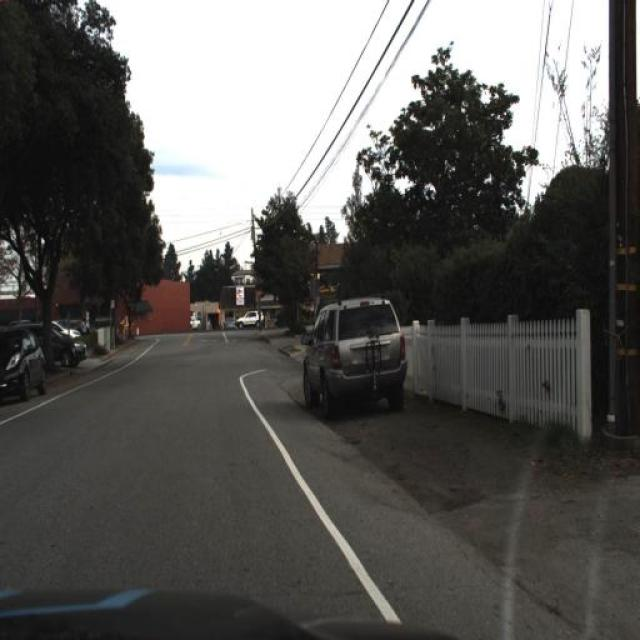car: (298, 291, 409, 421), (0, 323, 48, 416), (48, 322, 82, 369), (237, 310, 267, 330)
